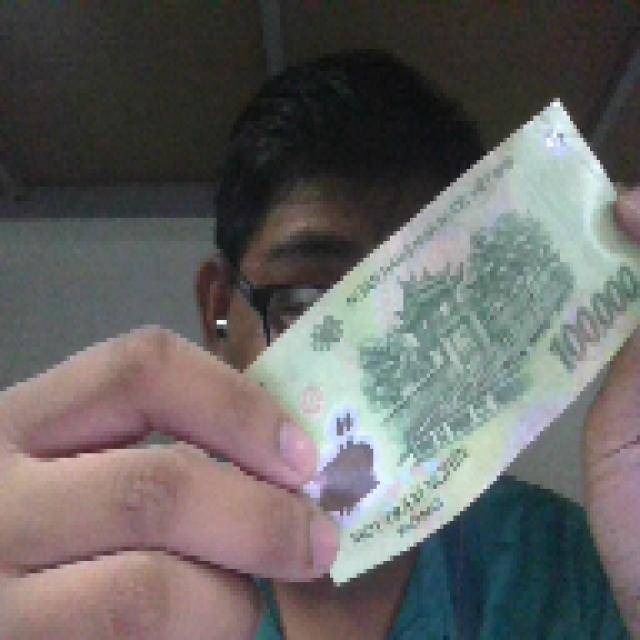100 000 VND: (233, 89, 637, 591)
